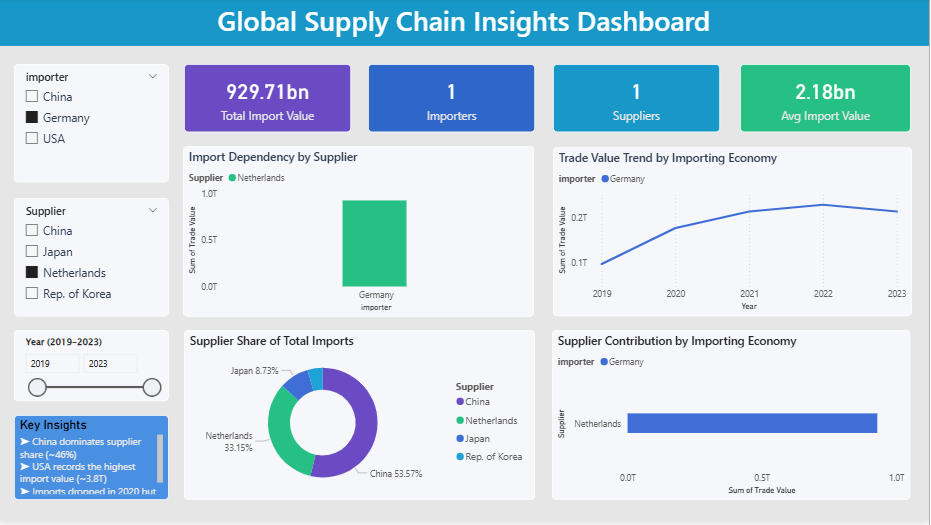

The dashboard page shown, as its layout file describes it:
{"tool":"powerbi","page":{"name":"Page 1","canvas":[1280,720],"ordinal":0},"visuals":[{"type":"clusteredBarChart","title":"Supplier Contribution by Importing Economy","fields":{"Category":["Sheet1.Supplier"],"Y":["Sum(Sheet1.Trade Value)"],"Series":["Sheet1.importer"]},"box":[761.1,456.9,492.7,234],"z":0},{"type":"lineChart","title":"Trade Value Trend by Importing Economy","fields":{"Category":["Sheet1.Year"],"Y":["Sum(Sheet1.Trade Value)"],"Series":["Sheet1.importer"]},"box":[762.5,205.1,494.1,232.6],"z":1000},{"type":"donutChart","title":"Supplier Share of Total Imports","fields":{"Category":["Sheet1.Supplier"],"Y":["Sum(Sheet1.Trade Value)"]},"box":[254.6,456.9,483.1,234],"z":2000},{"type":"lineStackedColumnComboChart","title":"Import Dependency by Supplier","fields":{"Category":["Sheet1.importer"],"Y":["Sum(Sheet1.Trade Value)"],"Series":["Sheet1.Supplier"]},"box":[253.2,203.7,483.1,235.4],"z":3000},{"type":"slicer","fields":{"Values":["Sheet1.importer"]},"box":[21.2,91.2,212.5,162.5],"z":4000},{"type":"slicer","fields":{"Values":["Sheet1.Supplier"]},"box":[21.2,275,212.5,162.5],"z":5000},{"type":"slicer","fields":{"Values":["Sheet1.Year"]},"box":[20.6,456.9,213.3,97.7],"z":6000},{"type":"card","fields":{"Values":["Sum(Sheet1.Trade Value)"]},"box":[254.6,90.8,229.8,93.6],"z":7000},{"type":"card","fields":{"Values":["Sheet1.Avg Import Value"]},"box":[1019.9,90.8,235.4,93.6],"z":8000},{"type":"card","fields":{"Values":["Sheet1.Suppliers"]},"box":[762.5,90.8,229.8,93.6],"z":9000},{"type":"card","fields":{"Values":["Sheet1.Importers"]},"box":[507.9,90.8,229.8,93.6],"z":10000},{"type":"textbox","box":[0,0,1280,66.1],"z":11000},{"type":"textbox","title":"Key Insights","box":[20.6,573.9,213.3,117],"z":12000}]}

Visuals, with their boxes in screenshot pixels (x1, y1, x2, y2), scaled from the page's 1280x720 canvas onto the 931x525 screenshot:
"Supplier Contribution by Importing Economy" clusteredBarChart: (left=554, top=333, right=912, bottom=504)
"Trade Value Trend by Importing Economy" lineChart: (left=555, top=150, right=914, bottom=319)
"Supplier Share of Total Imports" donutChart: (left=185, top=333, right=537, bottom=504)
"Import Dependency by Supplier" lineStackedColumnComboChart: (left=184, top=149, right=536, bottom=320)
slicer - Sheet1.importer: (left=15, top=66, right=170, bottom=185)
slicer - Sheet1.Supplier: (left=15, top=201, right=170, bottom=319)
slicer - Sheet1.Year: (left=15, top=333, right=170, bottom=404)
card - Sum(Sheet1.Trade Value): (left=185, top=66, right=352, bottom=134)
card - Sheet1.Avg Import Value: (left=742, top=66, right=913, bottom=134)
card - Sheet1.Suppliers: (left=555, top=66, right=722, bottom=134)
card - Sheet1.Importers: (left=369, top=66, right=537, bottom=134)
textbox: (left=0, top=0, right=930, bottom=48)
"Key Insights" textbox: (left=15, top=418, right=170, bottom=504)
